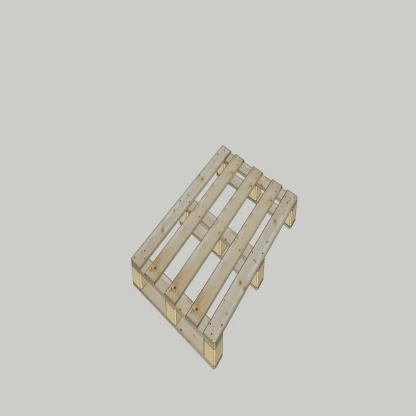BoxFace: (129, 141, 297, 373)
